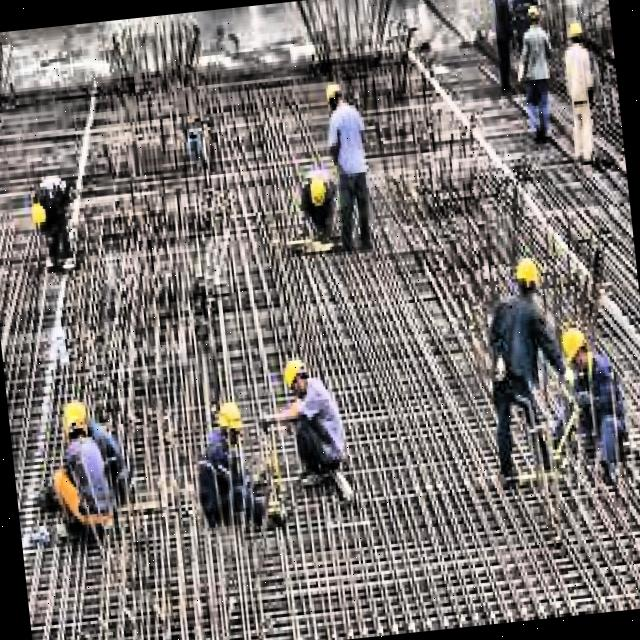helmet: (558, 316, 594, 374), (298, 166, 334, 217), (56, 394, 94, 442), (280, 348, 313, 402), (510, 253, 542, 301), (212, 398, 246, 442), (24, 192, 54, 236), (322, 73, 350, 117)
